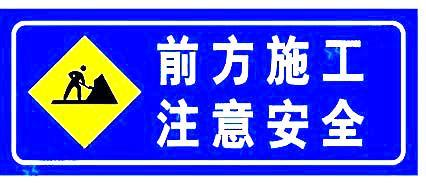sign: (5, 12, 415, 173)
